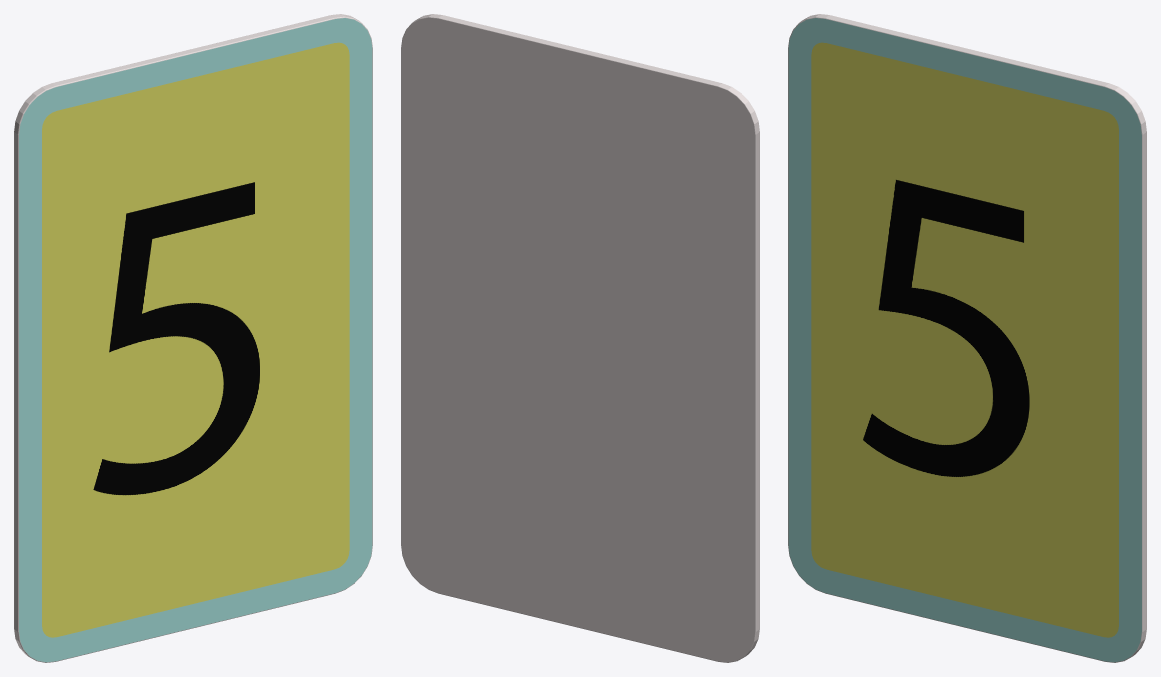
The model's file is Diamonds_5.fbx.
3 views of the same model, side by side, from view 1: azimuth 30°, elevation 25°; view 2: azimuth 150°, elevation 25°; view 3: azimuth 330°, elevation 25° (orthographic).
Parts seen in each view (by area): view 1: jaune5; view 2: jaune5; view 3: jaune5.
Part boxes in pixels (box(x1,y1,x2,y2)): jaune5: box(14, 14, 372, 662); jaune5: box(401, 14, 759, 662); jaune5: box(788, 14, 1146, 662).
Size of the model in its own units: 200 by 310 by 4.34.
Materials: 3 (1 with a texture image).
